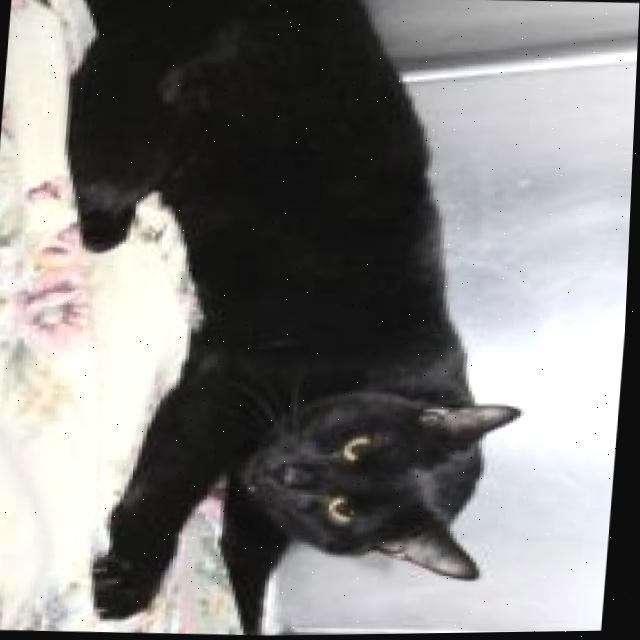Bombay: (6, 0, 564, 640)
